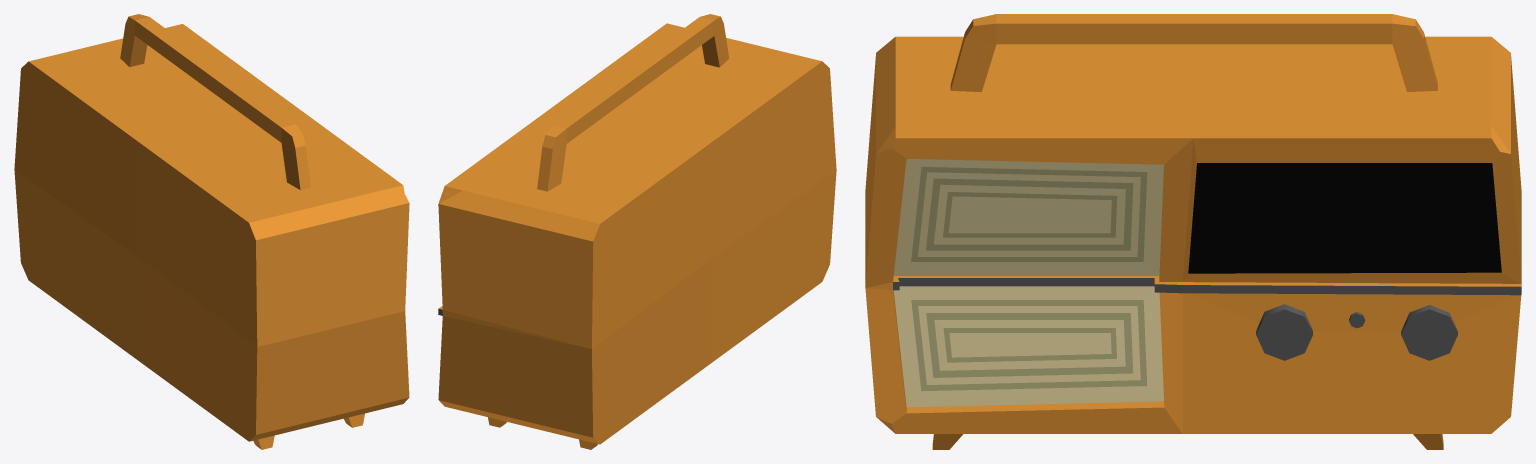
Rendered from SM_Radio.fbx.
3 views of the same model, side by side, from view 1: azimuth 30°, elevation 25°; view 2: azimuth 150°, elevation 25°; view 3: azimuth 270°, elevation 25° (orthographic). The views are drawn at different scales.
Visible parts, largest first — view 1: Radio; view 2: Radio; view 3: Radio.
Part boxes in pixels (x1,y1,x2,y2): Radio: (14,14,409,449); Radio: (438,14,836,449); Radio: (865,14,1521,449).
Size of the model in its own units: 224 by 401 by 600.
